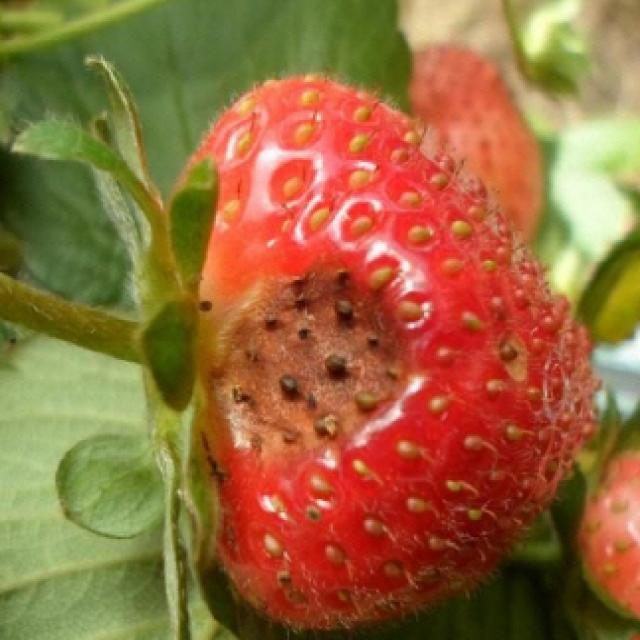Anthracnose Fruit Rot: (199, 255, 434, 473)
